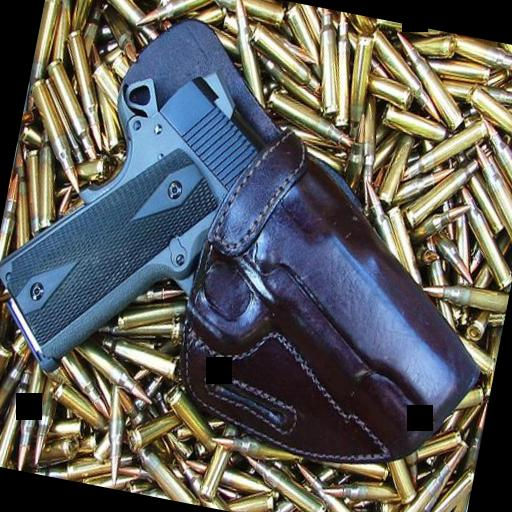Handgun: (0, 33, 512, 482)
